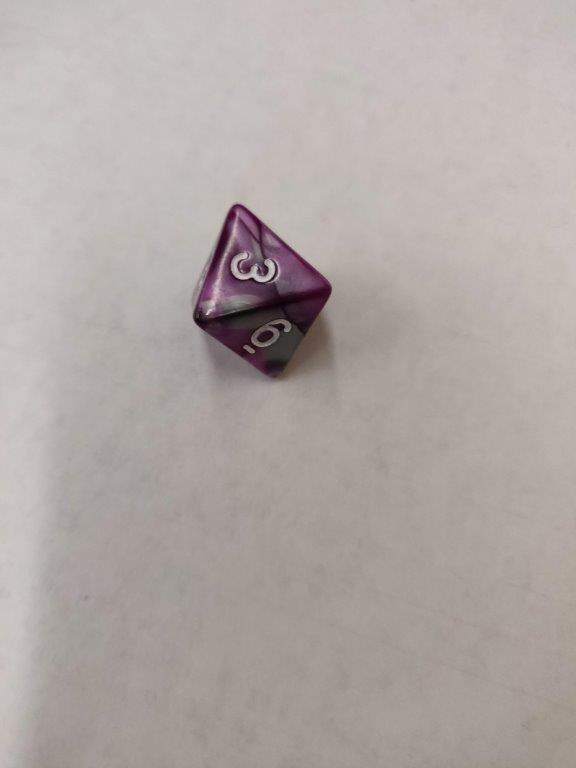d8-3: (189, 204, 333, 382)
